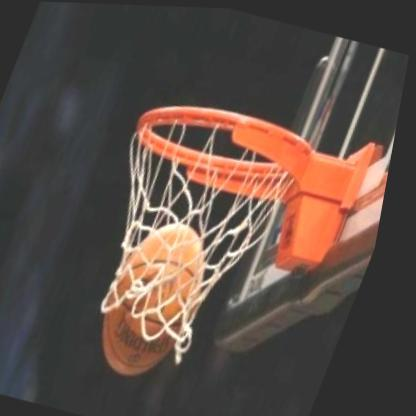basketball: (79, 203, 251, 396)
rim: (73, 81, 339, 317)
